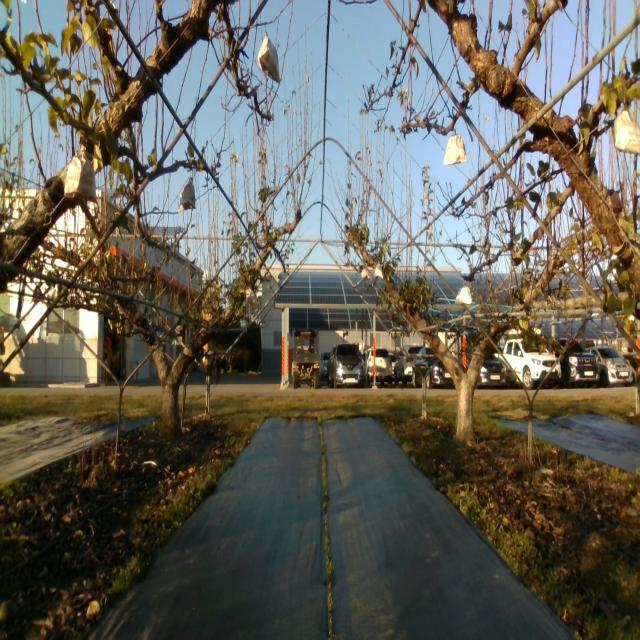pearbags: (64, 152, 98, 203), (256, 32, 280, 85), (613, 110, 640, 153), (442, 129, 467, 168), (178, 177, 196, 212), (455, 284, 472, 306)
